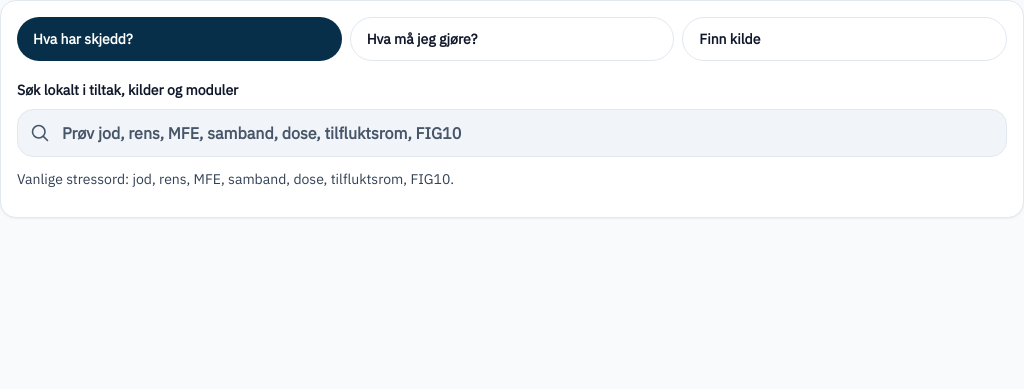
Test: finds aliases and typos through operational expansion
Type "jodtablet" into the search field at (526, 133), box [58, 111, 994, 155]
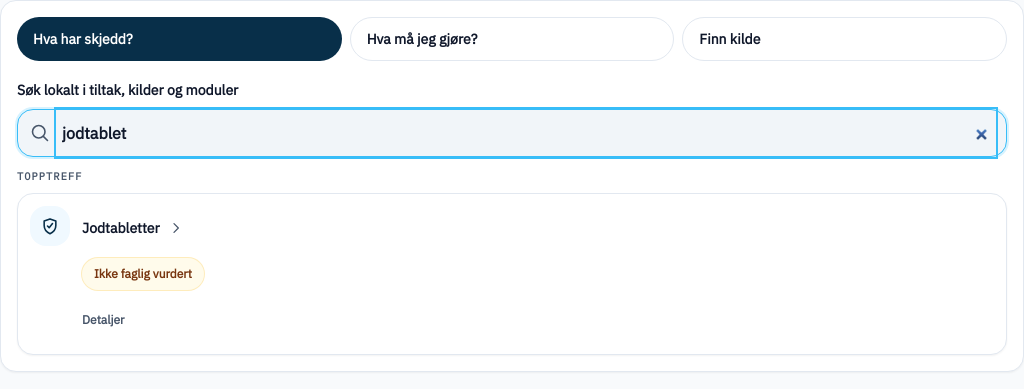
Now the link "Jodtabletter" is shown, box [82, 219, 184, 237]
Replace the text in the search field with "dekontaminering" at (526, 133), box [58, 111, 994, 155]
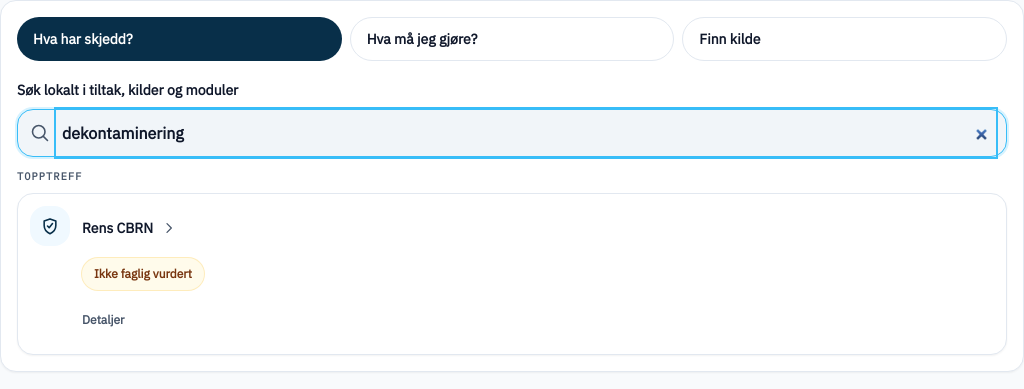
Now the link "Rens CBRN" is shown, box [82, 219, 177, 237]
